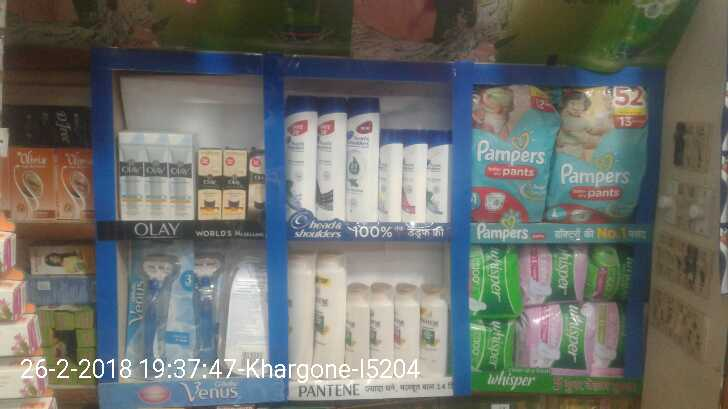venus: (123, 237, 193, 371), (222, 253, 266, 373), (193, 237, 222, 373)
